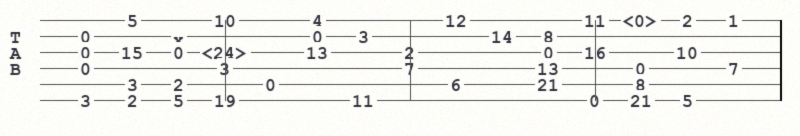0: (80, 28, 95, 44), (80, 44, 95, 60), (80, 60, 95, 76), (173, 44, 188, 60), (265, 76, 280, 92), (312, 28, 327, 44), (543, 44, 558, 60), (589, 92, 604, 108), (635, 60, 650, 76)
1: (728, 12, 743, 28)
10: (214, 12, 240, 28), (676, 44, 702, 60)
11: (352, 92, 378, 108), (584, 12, 610, 28)
12: (445, 12, 471, 28)
13: (306, 44, 332, 60), (537, 60, 563, 76)
14: (491, 28, 517, 44)
15: (121, 44, 147, 60)
16: (584, 44, 610, 60)
19: (214, 92, 240, 108)
2: (127, 92, 142, 108), (173, 76, 188, 92), (404, 44, 419, 60), (682, 12, 697, 28)
21: (537, 76, 563, 92), (630, 92, 656, 108)
3: (80, 92, 95, 108), (127, 76, 142, 92), (219, 60, 234, 76), (358, 28, 373, 44)
4: (312, 12, 327, 28)
5: (127, 12, 142, 28), (173, 92, 188, 108), (682, 92, 697, 108)
6: (450, 76, 465, 92)
7: (404, 60, 419, 76), (728, 60, 743, 76)
8: (543, 28, 558, 44), (635, 76, 650, 92)
harmonic: (202, 44, 252, 60), (623, 12, 662, 28)
x: (173, 30, 188, 42)
